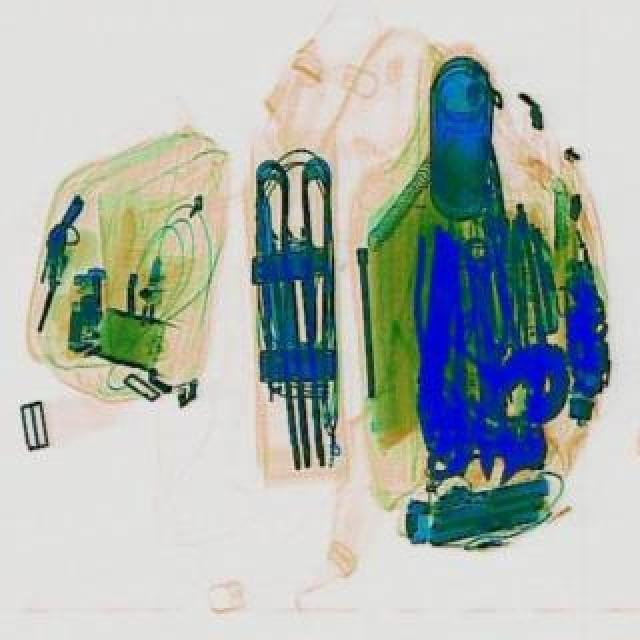scissors: (456, 232, 524, 482)
